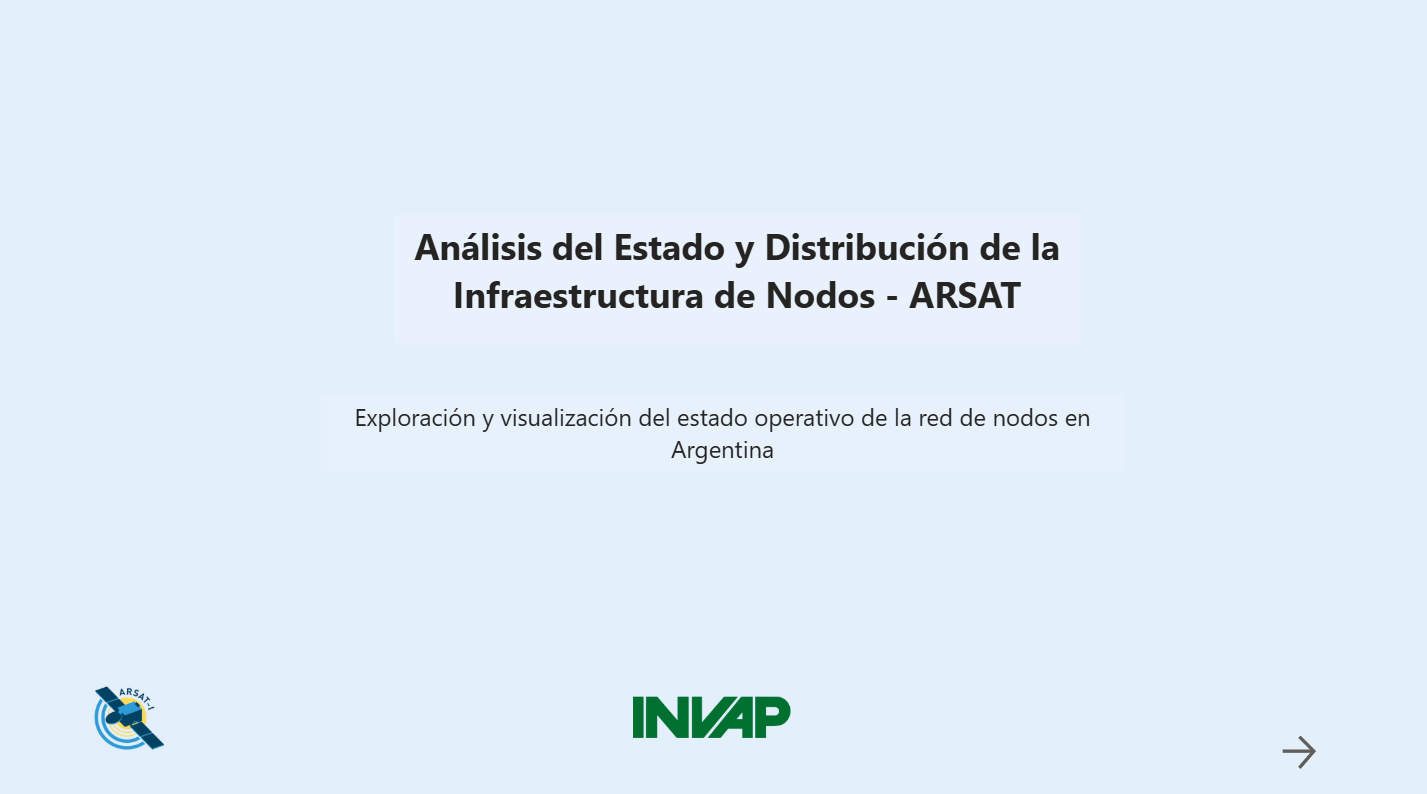

What the dashboard file says about the page in this screenshot:
{"tool":"powerbi","page":{"name":"Portada","canvas":[1280,720],"ordinal":0},"visuals":[{"type":"textbox","box":[356.4,198.8,612.5,114.6],"z":0},{"type":"textbox","box":[290.1,360,719.1,69],"z":1000},{"type":"actionButton","box":[1145.6,659.7,43.4,39.9],"z":1002},{"type":"image","box":[55.5,614.3,126.3,69.9],"z":1003},{"type":"image","box":[569.6,607.2,141.5,83.3],"z":1004}]}

Visuals, with their boxes in screenshot pixels (x1, y1, x2, y2), scaled from the page's 1280x720 canvas onto the 1427x794 screenshot:
textbox: 397, 219, 1080, 346
textbox: 323, 397, 1125, 473
actionButton: 1277, 728, 1326, 772
image: 62, 677, 203, 755
image: 635, 670, 793, 761
